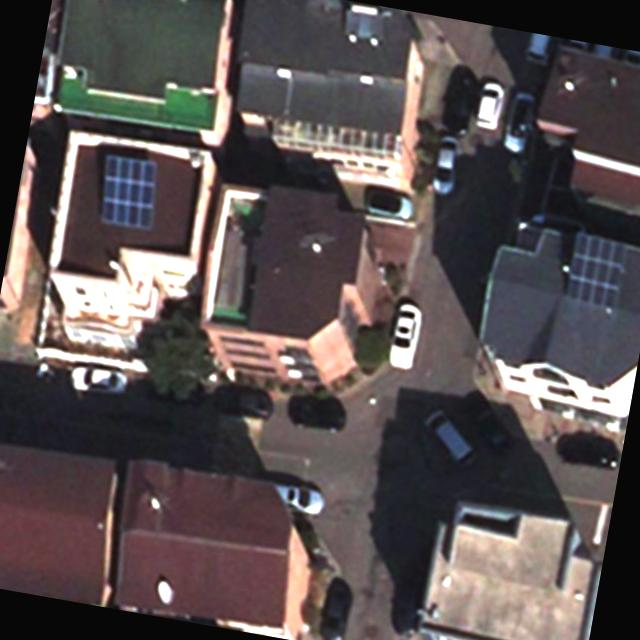solar: (91, 152, 167, 233), (561, 228, 630, 312)
